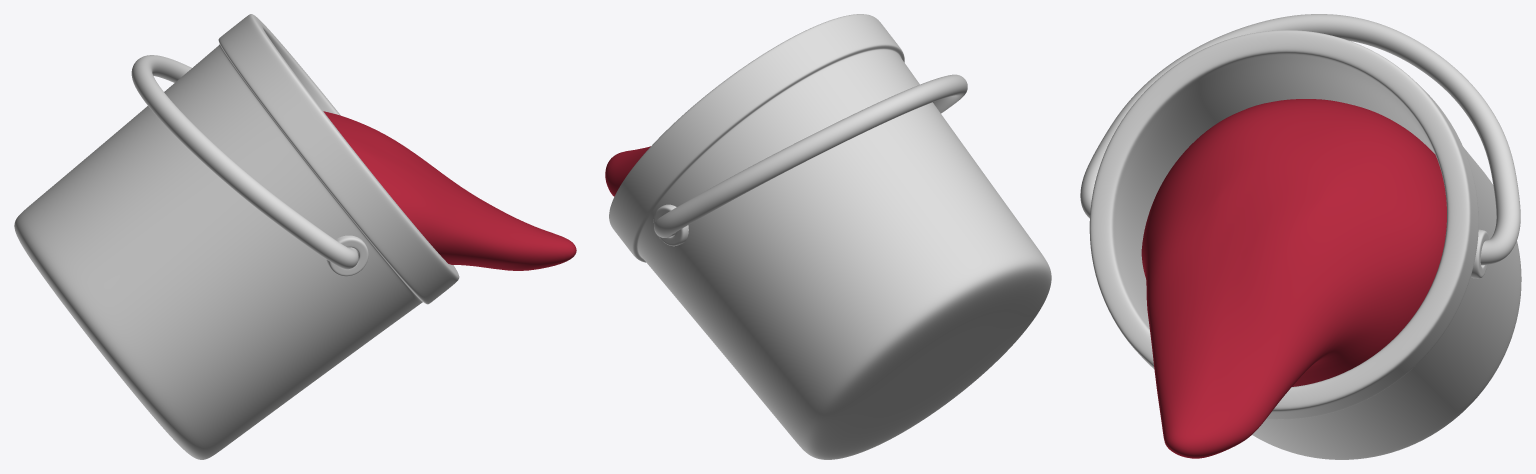
File: bucket.fbx
3 renders of one model, left to right at view 1: azimuth 30°, elevation 25°; view 2: azimuth 150°, elevation 25°; view 3: azimuth 270°, elevation 25°, orthographic. The views are drawn at different scales.
Parts seen in each view (by area): view 1: Cylinder.017; view 2: Cylinder.017; view 3: Cylinder.017.
Part boxes in pixels (x1,y1,x2,y2): Cylinder.017: [14, 14, 576, 459]; Cylinder.017: [605, 14, 1051, 459]; Cylinder.017: [1080, 14, 1521, 459].
Bounding box in the file's own units: 194 × 157 × 136.
